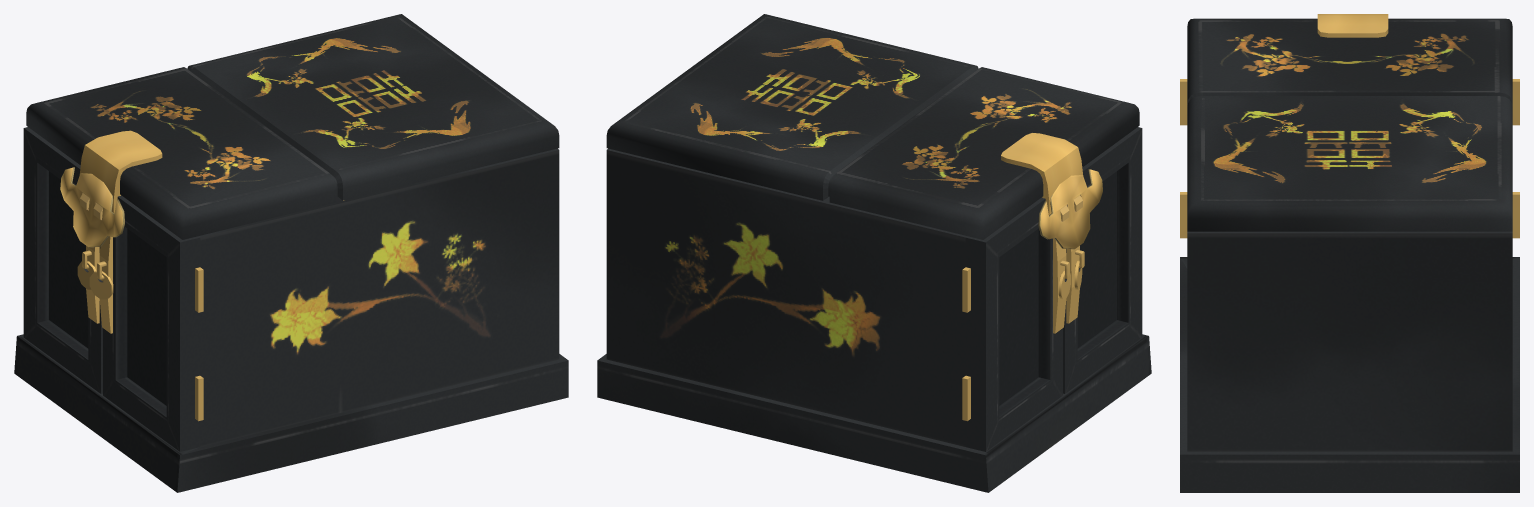
The model's file is TreasureChest2.fbx.
The picture shows the model from 3 angles, left to right: view 1: azimuth 30°, elevation 25°; view 2: azimuth 150°, elevation 25°; view 3: azimuth 270°, elevation 25°; orthographic projection. The views are drawn at different scales.
Parts seen in each view (by area): view 1: TEXURE; view 2: TEXURE; view 3: TEXURE.
Part boxes in pixels (box(x1,y1,x2,y2)): TEXURE: box(14, 14, 568, 492); TEXURE: box(597, 14, 1151, 492); TEXURE: box(1180, 14, 1519, 492).
Size of the model in its own units: 134 by 88.59 by 94.49.
1 material, 1 textured.
